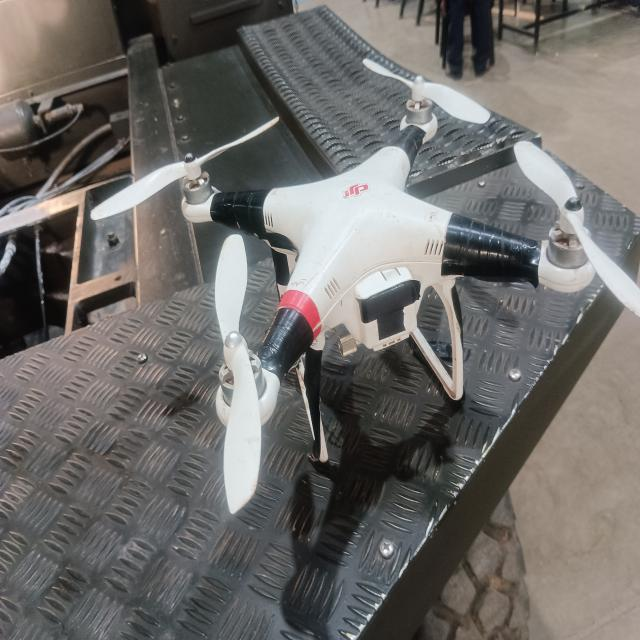drone: (58, 59, 640, 522)
